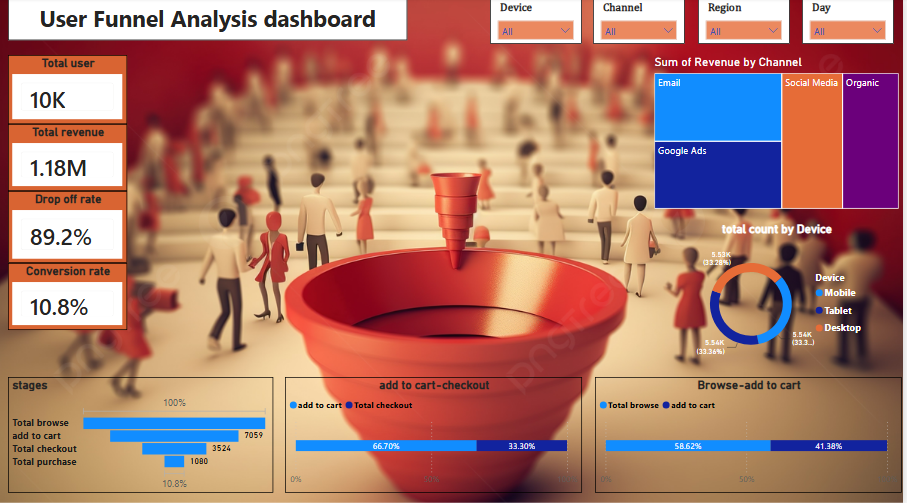

The dashboard page shown, as its layout file describes it:
{"tool":"powerbi","page":{"name":"Page 1","canvas":[1280,720],"ordinal":0},"visuals":[{"type":"textbox","box":[12.8,0,565.5,59.5],"z":0},{"type":"slicer","fields":{"Values":["funnel_analysis_data (1).Date.Variation.Date Hierarchy.Day"]},"box":[1138.1,0,130.4,65.2],"z":1000},{"type":"slicer","fields":{"Values":["funnel_analysis_data (1).Region"]},"box":[990.7,0,130.4,65.2],"z":2000},{"type":"slicer","fields":{"Values":["funnel_analysis_data (1).Channel"]},"box":[841.9,0,130.4,65.2],"z":3000},{"type":"slicer","fields":{"Values":["funnel_analysis_data (1).Device"]},"box":[695.9,0,130.4,65.2],"z":4000},{"type":"cardVisual","title":"Total user","fields":{"Data":["funnel_analysis_data (1).total count"]},"box":[12.8,80.8,168.7,97.8],"z":5000},{"type":"cardVisual","title":"Drop off rate","fields":{"Data":["funnel_analysis_data (1).drop off rate"]},"box":[12.8,273.5,168.7,102],"z":6000},{"type":"cardVisual","title":"Conversion rate","fields":{"Data":["funnel_analysis_data (1).total conversion rate"]},"box":[12.8,375.6,168.7,95],"z":7000},{"type":"cardVisual","title":"Total revenue","fields":{"Data":["Sum(funnel_analysis_data (1).Revenue)"]},"box":[12.8,178.6,168.7,95],"z":8000},{"type":"funnel","title":"stages","fields":{"Y":["funnel_analysis_data (1).Total browse","funnel_analysis_data (1).add to cart","funnel_analysis_data (1).Total checkout","funnel_analysis_data (1).Total purchase"]},"box":[12.8,537.2,375.6,164.4],"z":9000},{"type":"hundredPercentStackedBarChart","title":"Browse-add to cart","fields":{"Y":["funnel_analysis_data (1).Total browse","funnel_analysis_data (1).add to cart"]},"box":[844.7,537.2,435.1,164.4],"z":10000},{"type":"hundredPercentStackedBarChart","title":"add to cart-checkout","fields":{"Y":["funnel_analysis_data (1).add to cart","funnel_analysis_data (1).Total checkout"]},"box":[405.4,537.2,420.9,164.4],"z":11000},{"type":"treemap","fields":{"Group":["funnel_analysis_data (1).Channel"],"Values":["Sum(funnel_analysis_data (1).Revenue)"]},"box":[924.1,80.8,355.7,222.5],"z":12000},{"type":"donutChart","fields":{"Y":["funnel_analysis_data (1).total count"],"Category":["funnel_analysis_data (1).Device"]},"box":[969.4,317.5,266.5,211.2],"z":13000}]}

Visuals, with their boxes in screenshot pixels (x1, y1, x2, y2), scaled from the page's 1280x720 canvas onto the 907x503 screenshot:
textbox: region(9, 0, 410, 42)
slicer - funnel_analysis_data (1).Date.Variation.Date Hierarchy.Day: region(806, 0, 899, 46)
slicer - funnel_analysis_data (1).Region: region(702, 0, 794, 46)
slicer - funnel_analysis_data (1).Channel: region(597, 0, 689, 46)
slicer - funnel_analysis_data (1).Device: region(493, 0, 586, 46)
"Total user" cardVisual: region(9, 56, 129, 125)
"Drop off rate" cardVisual: region(9, 191, 129, 262)
"Conversion rate" cardVisual: region(9, 262, 129, 329)
"Total revenue" cardVisual: region(9, 125, 129, 191)
"stages" funnel: region(9, 375, 275, 490)
"Browse-add to cart" hundredPercentStackedBarChart: region(599, 375, 906, 490)
"add to cart-checkout" hundredPercentStackedBarChart: region(287, 375, 586, 490)
treemap - funnel_analysis_data (1).Channel x Sum(funnel_analysis_data (1).Revenue): region(655, 56, 906, 212)
donutChart - funnel_analysis_data (1).total count x funnel_analysis_data (1).Device: region(687, 222, 876, 369)
